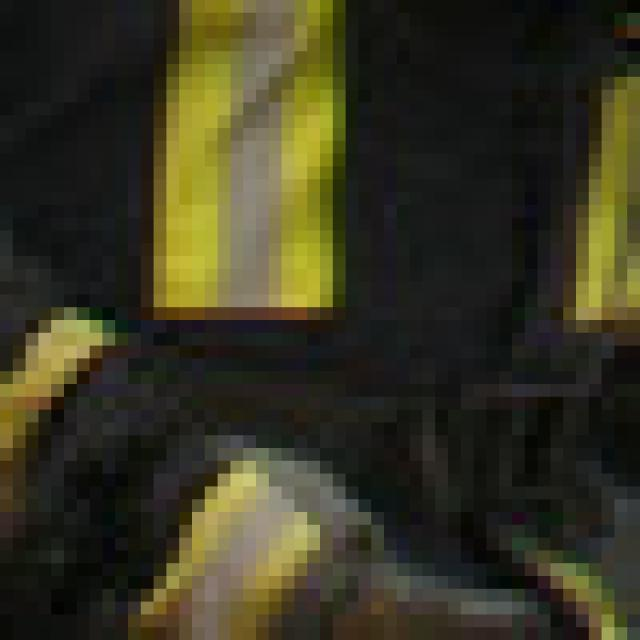no_fire: (29, 0, 640, 637)
